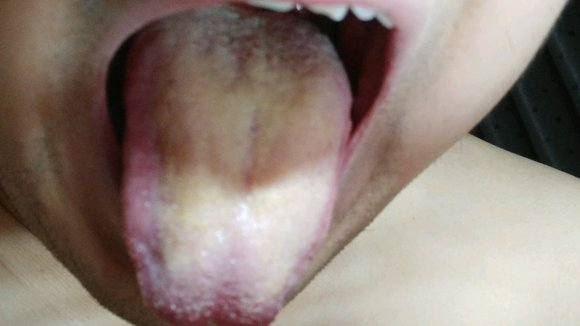huangtaishe: (119, 7, 351, 326)
